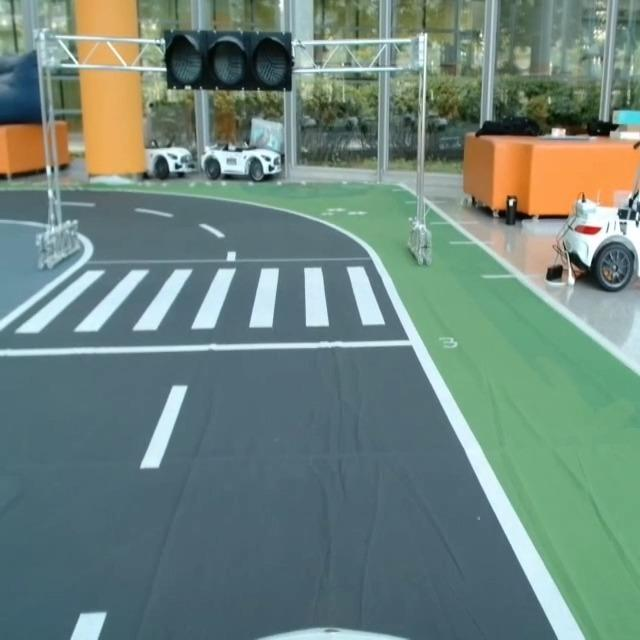traffic-light: (162, 29, 300, 95)
